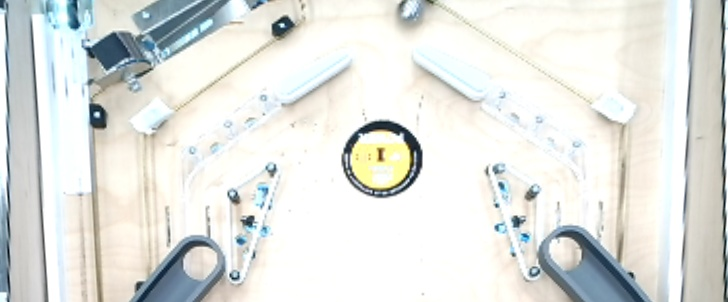ball: (393, 0, 428, 28)
flipper-left: (408, 39, 495, 104)
flipper-right: (268, 49, 355, 107)
